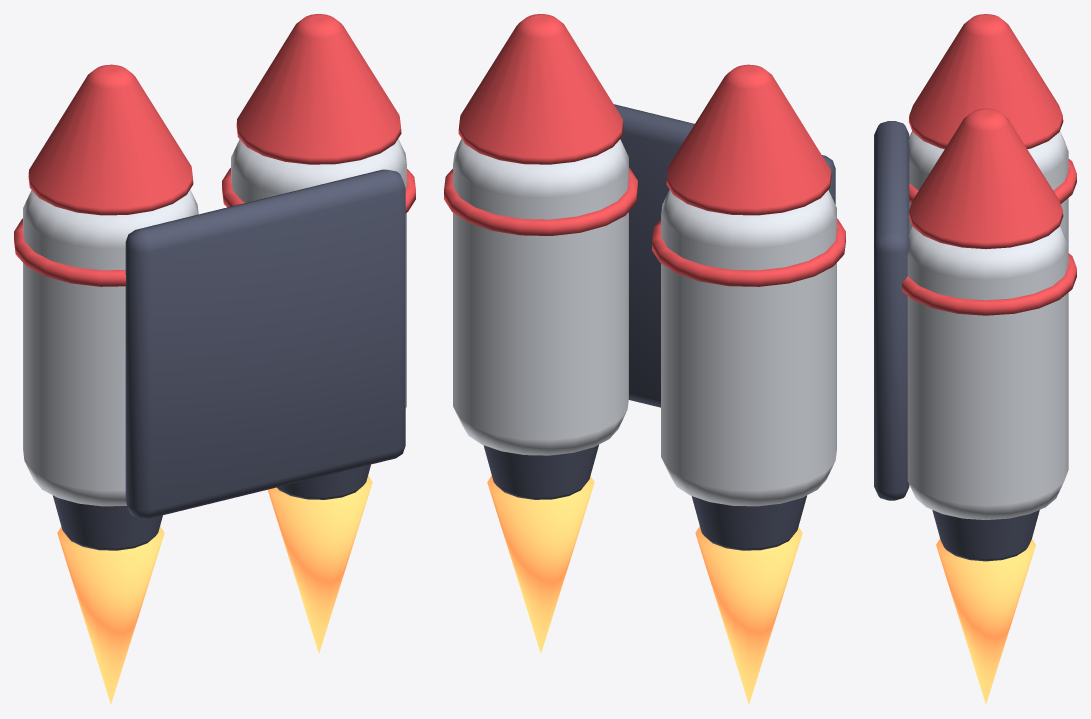
The model's file is jetpack.glb.
3 views of the same model, side by side, from view 1: azimuth 30°, elevation 25°; view 2: azimuth 150°, elevation 25°; view 3: azimuth 270°, elevation 25° (orthographic). The views are drawn at different scales.
Parts seen in each view (by area): view 1: plate, tank, nose, nose.001, flame, flame.001, tank.001, nozzle, stripe, nozzle.001, stripe.001; view 2: tank.001, tank, nose, nose.001, plate, flame, flame.001, nozzle, nozzle.001, stripe, stripe.001; view 3: tank.001, nose.001, plate, nose, flame.001, nozzle.001, stripe.001, tank, stripe.
Part boxes in pixels (left/top/right/bottom): plate: left=125, top=169, right=405, bottom=518; tank: left=23, top=189, right=198, bottom=506; nose: left=28, top=64, right=193, bottom=215; nose.001: left=236, top=14, right=401, bottom=164; flame: left=57, top=526, right=164, bottom=704; flame.001: left=268, top=475, right=372, bottom=653; tank.001: left=231, top=139, right=406, bottom=408; nozzle: left=53, top=495, right=162, bottom=550; stripe: left=14, top=218, right=125, bottom=286; nozzle.001: left=277, top=464, right=370, bottom=499; stripe.001: left=222, top=168, right=415, bottom=212; tank.001: left=453, top=139, right=628, bottom=455; tank: left=661, top=189, right=836, bottom=506; nose: left=666, top=64, right=831, bottom=215; nose.001: left=458, top=14, right=623, bottom=164; plate: left=614, top=104, right=835, bottom=407; flame: left=695, top=526, right=802, bottom=704; flame.001: left=487, top=475, right=594, bottom=653; nozzle: left=691, top=495, right=806, bottom=550; nozzle.001: left=483, top=445, right=598, bottom=499; stripe: left=652, top=218, right=845, bottom=286; stripe.001: left=444, top=168, right=637, bottom=235; tank.001: left=907, top=226, right=1068, bottom=519; nose.001: left=908, top=108, right=1063, bottom=249; plate: left=874, top=121, right=909, bottom=500; nose: left=908, top=14, right=1063, bottom=149; flame.001: left=936, top=539, right=1035, bottom=704; nozzle.001: left=932, top=510, right=1039, bottom=561; stripe.001: left=902, top=253, right=1076, bottom=315; tank: left=908, top=131, right=1068, bottom=245; stripe: left=909, top=159, right=1076, bottom=203.
Bounding box in the file's own units: 0.6883 × 1.11 × 0.3441.
